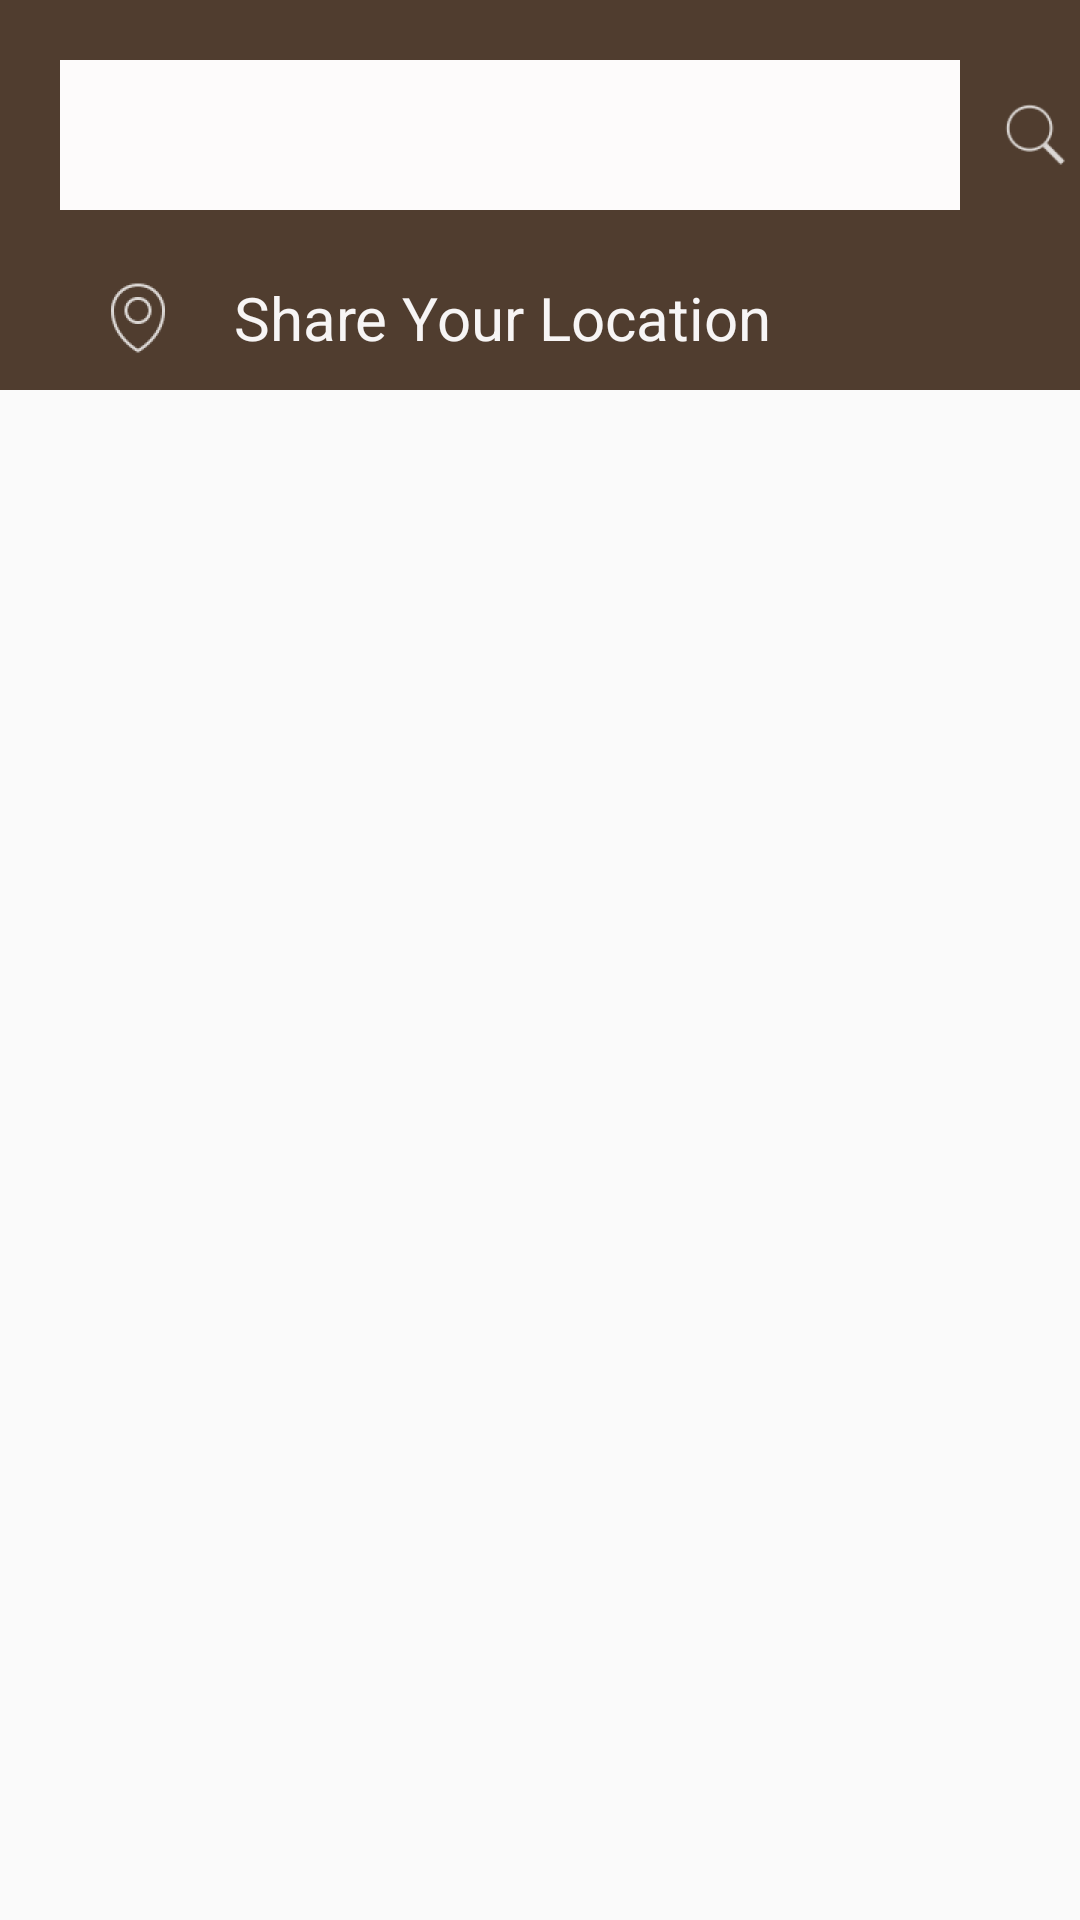

Screen size 1080x1920. Icon name, then its box in pixels as (x1, y1, x2, y2):
search: (1006, 105, 1065, 165)
